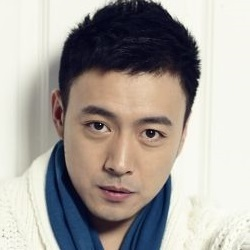unmask: (65, 60, 187, 220)
